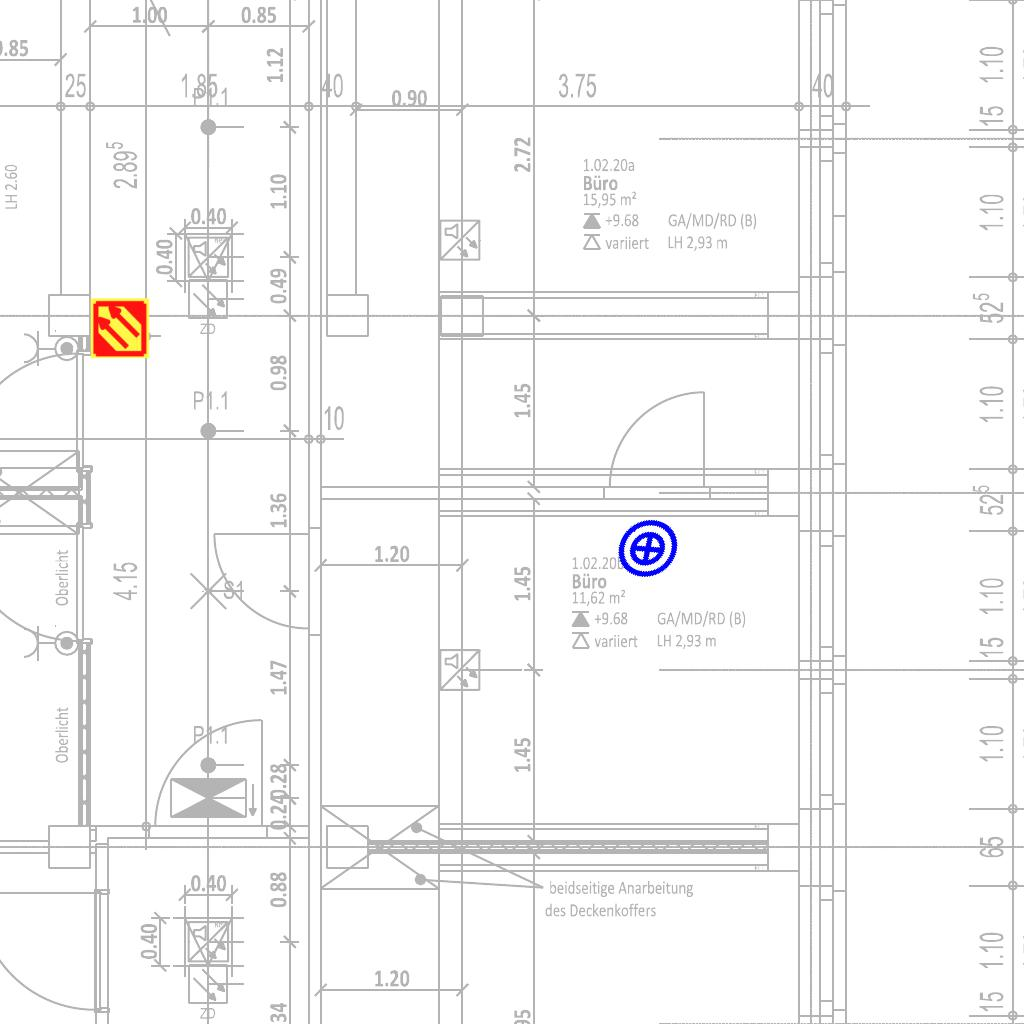ASR_Ansaugrauchmelder: (89, 297, 151, 359)
Taster_beleuchtet: (601, 502, 695, 596)
